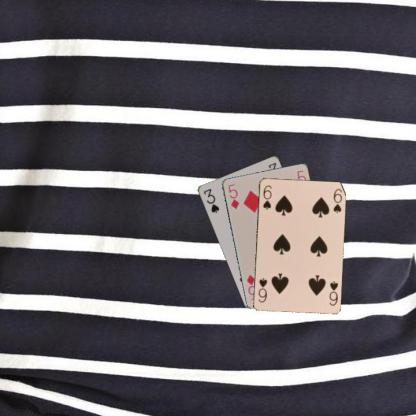3s: (201, 186, 220, 214)
5d: (226, 181, 240, 211)
6s: (260, 182, 272, 211), (327, 278, 339, 307)
